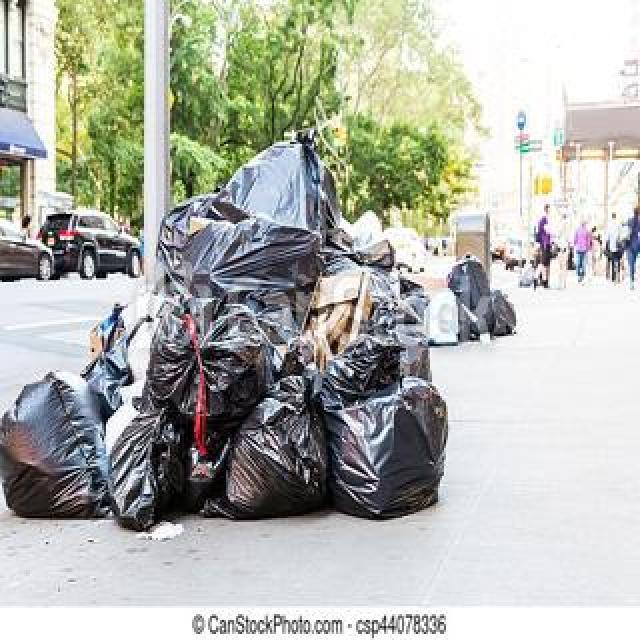high trash: (0, 130, 515, 529)
